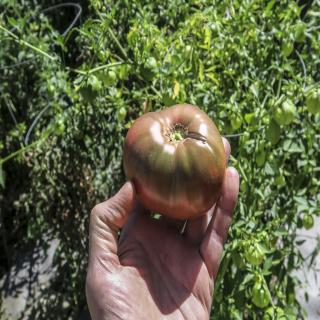tomato: (121, 100, 228, 220)
